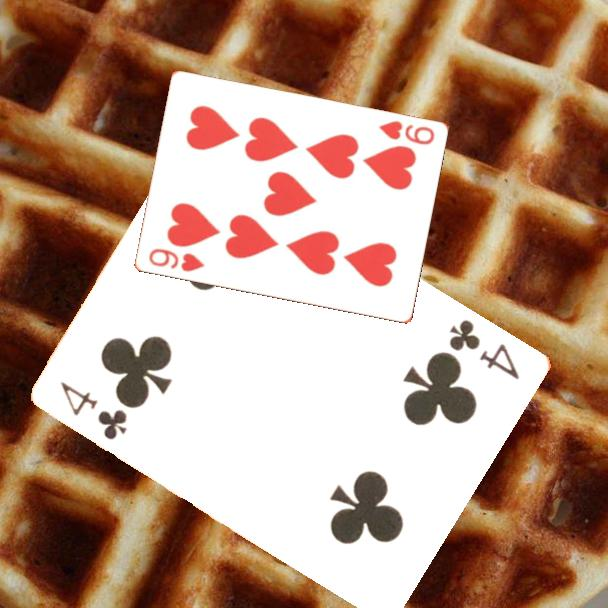c04: (446, 315, 523, 383), (57, 377, 131, 443)
h09: (375, 117, 437, 148), (145, 245, 207, 275)
